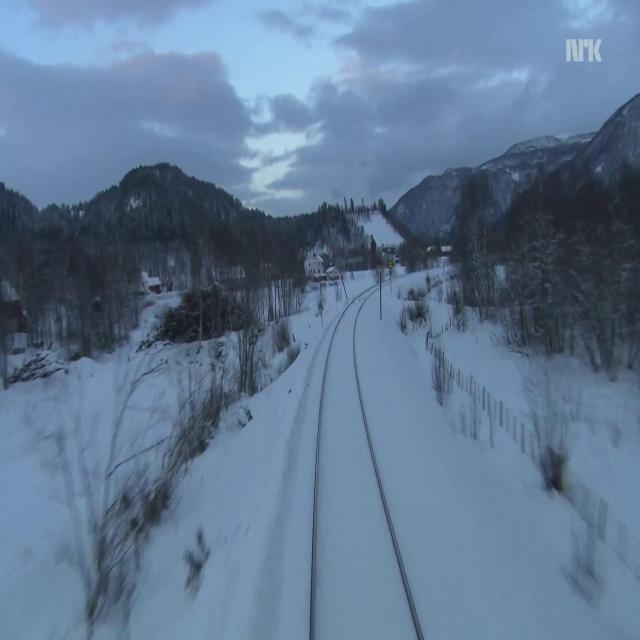rail-track: (315, 288, 419, 639)
